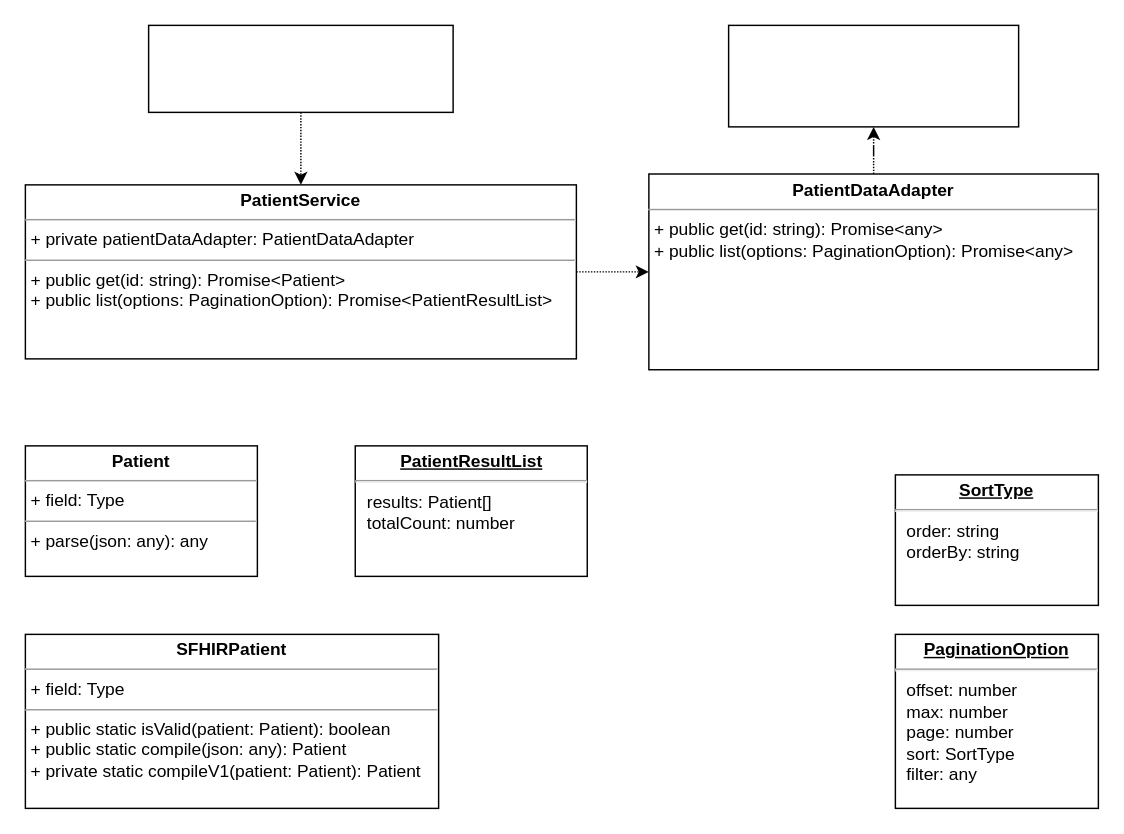
Some shapes in this 1124 by 834 pixel diagram are drawn without their labels. The shapes that lost their labels are listed below. From the top down, each one's box as (x1, y1, x2, y2) in pixels, then its label:
(147, 24, 453, 112): HmsService public patient: PatientService
(727, 24, 1019, 127): DataAdapter + public host: string + private environment: string
